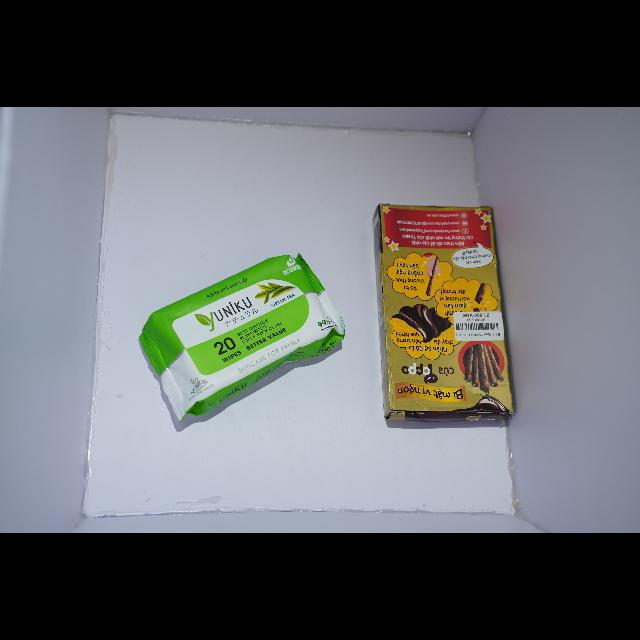banh_toppo_socola: (375, 204, 513, 422)
khan_giay: (139, 254, 344, 420)
